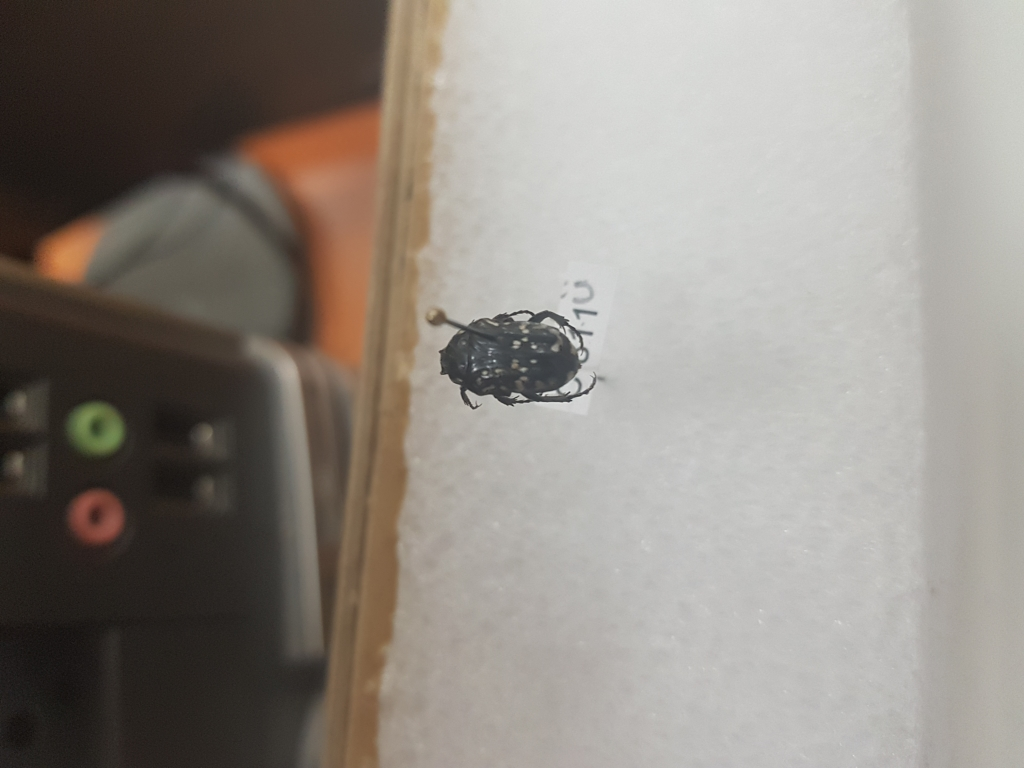Oxythyrea_albopicta: (432, 307, 599, 418)
